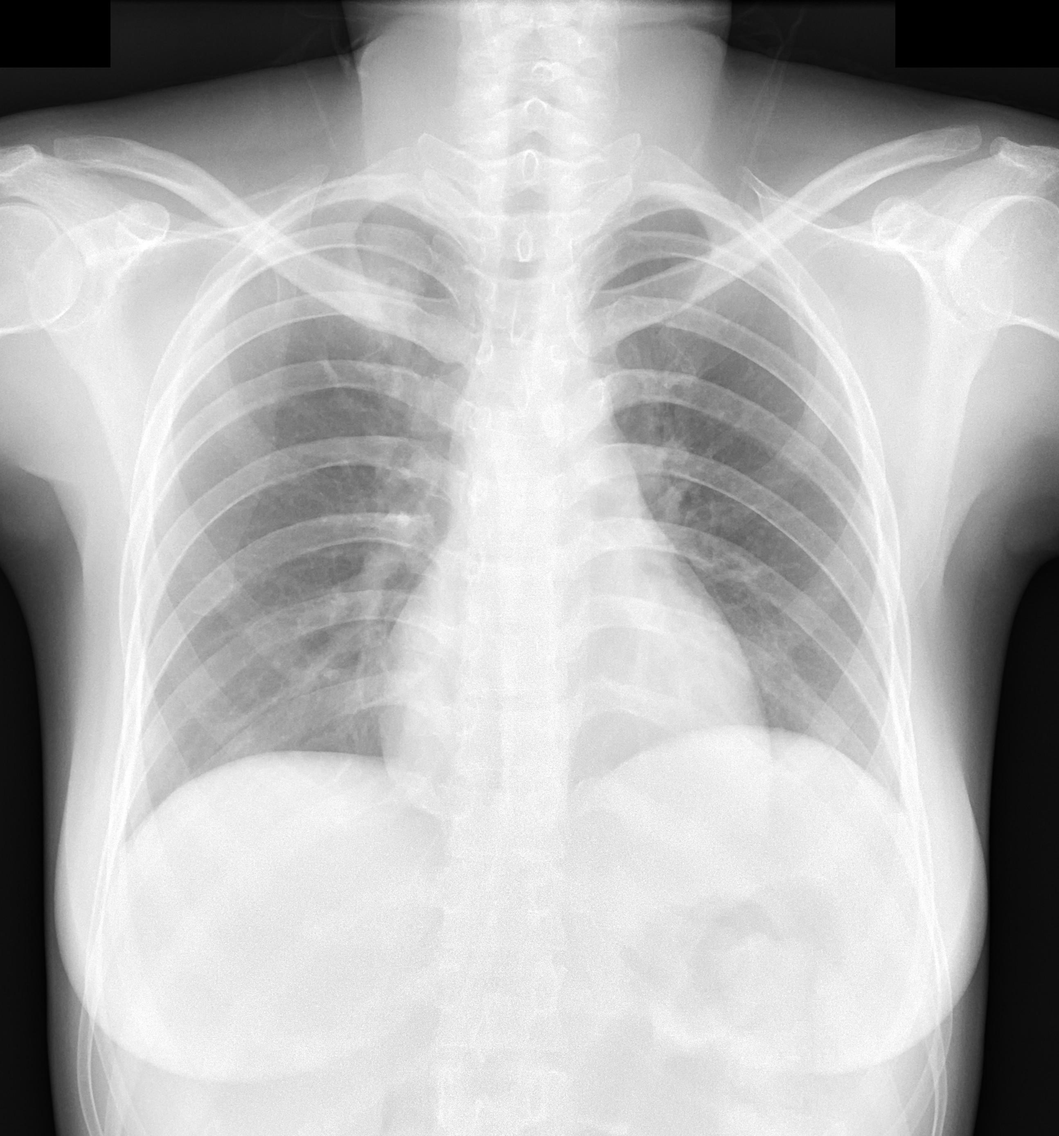Pulmonary fibrosis: (310, 355, 359, 417)
